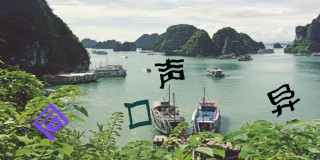口: (123, 98, 155, 131)
同: (34, 103, 69, 139)
声: (155, 56, 185, 90)
异: (267, 84, 301, 117)
